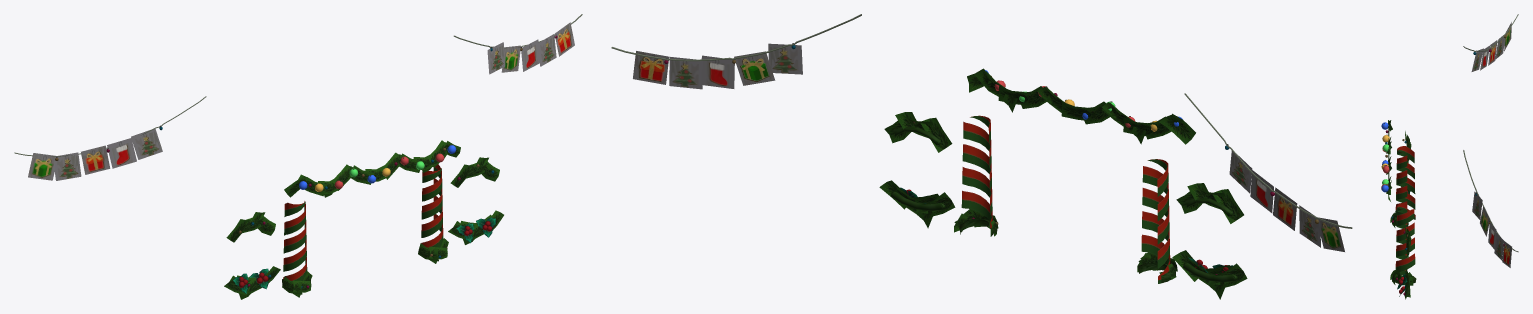
The model's file is christmas-garland.glb.
The picture shows the model from 3 angles, left to right: view 1: azimuth 30°, elevation 25°; view 2: azimuth 150°, elevation 25°; view 3: azimuth 270°, elevation 25°; orthographic projection. The views are drawn at different scales.
Parts seen in each view (by area): view 1: EvtobjChristmasGarland_node5, EvtobjChristmasGarland_node8, EvtobjChristmasGarland_node7, EvtobjChristmasGarland_node4, EvtobjChristmasGarland_node6; view 2: EvtobjChristmasGarland_node5, EvtobjChristmasGarland_node8, EvtobjChristmasGarland_node7, EvtobjChristmasGarland_node4; view 3: EvtobjChristmasGarland_node7, EvtobjChristmasGarland_node8, EvtobjChristmasGarland_node5, EvtobjChristmasGarland_node4.
Part boxes in pixels (x1,y1,x2,y2): EvtobjChristmasGarland_node5: (224,140,503,299); EvtobjChristmasGarland_node8: (28,22,574,180); EvtobjChristmasGarland_node7: (14,14,582,280); EvtobjChristmasGarland_node4: (55,34,557,288); EvtobjChristmasGarland_node6: (233,217,495,293); EvtobjChristmasGarland_node5: (879,68,1247,299); EvtobjChristmasGarland_node8: (633,43,1344,251); EvtobjChristmasGarland_node7: (611,14,1352,283); EvtobjChristmasGarland_node4: (664,43,1318,283); EvtobjChristmasGarland_node7: (1395,14,1518,275); EvtobjChristmasGarland_node8: (1471,22,1511,267); EvtobjChristmasGarland_node5: (1386,120,1413,299); EvtobjChristmasGarland_node4: (1381,35,1506,295).
Bounding box in the file's own units: 101 × 31.22 × 24.6.
Materials: 4 (4 with a texture image).
